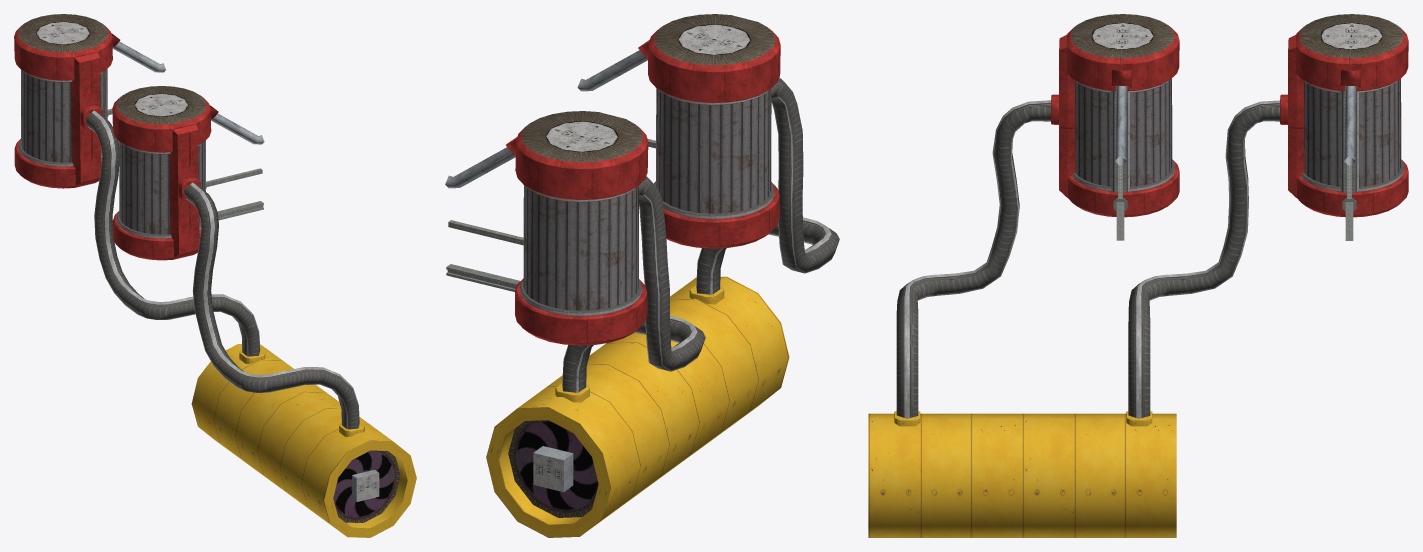
File: Ob_TransformerDouble_RC.fbx
3 views of the same model, side by side, from view 1: azimuth 30°, elevation 25°; view 2: azimuth 150°, elevation 25°; view 3: azimuth 270°, elevation 25° (orthographic). The views are drawn at different scales.
Visible parts, largest first — view 1: Ob_TransformerDouble_RC; view 2: Ob_TransformerDouble_RC; view 3: Ob_TransformerDouble_RC.
Boxes of the visible parts, bbox=[...] form: Ob_TransformerDouble_RC: bbox=[14, 14, 416, 537]; Ob_TransformerDouble_RC: bbox=[445, 14, 839, 537]; Ob_TransformerDouble_RC: bbox=[868, 14, 1408, 537].
Bounding box in the file's own units: 866 × 1654 × 1843.
